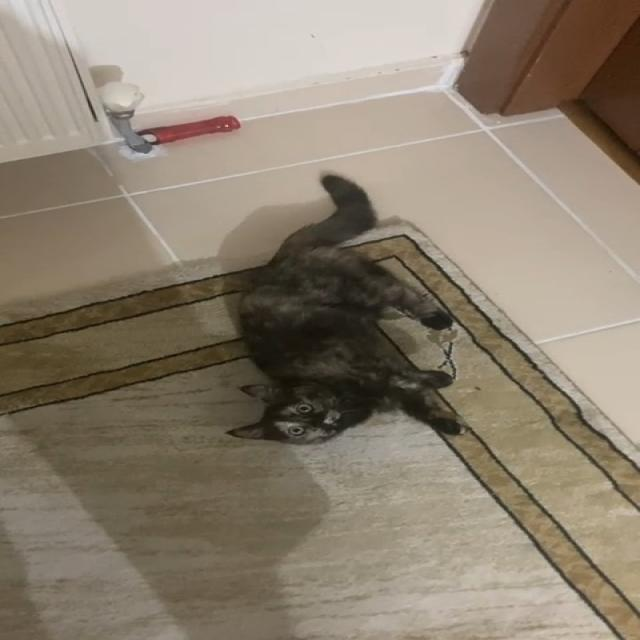authorized: (224, 172, 468, 444)
